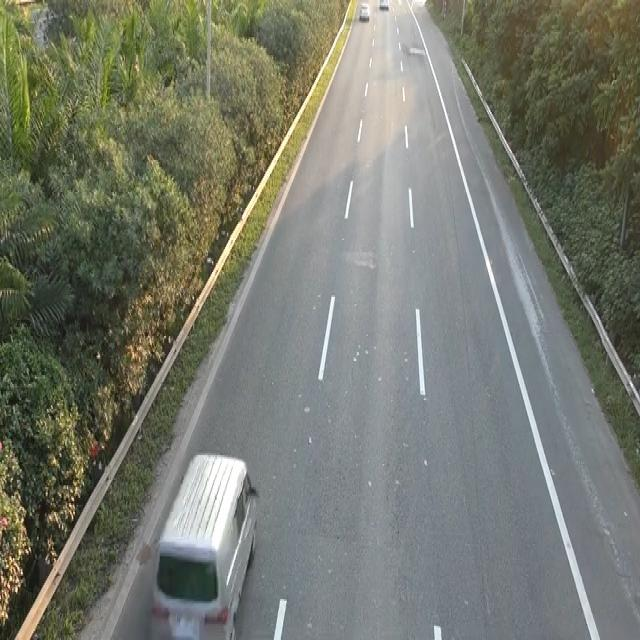lorry: (148, 446, 259, 636)
